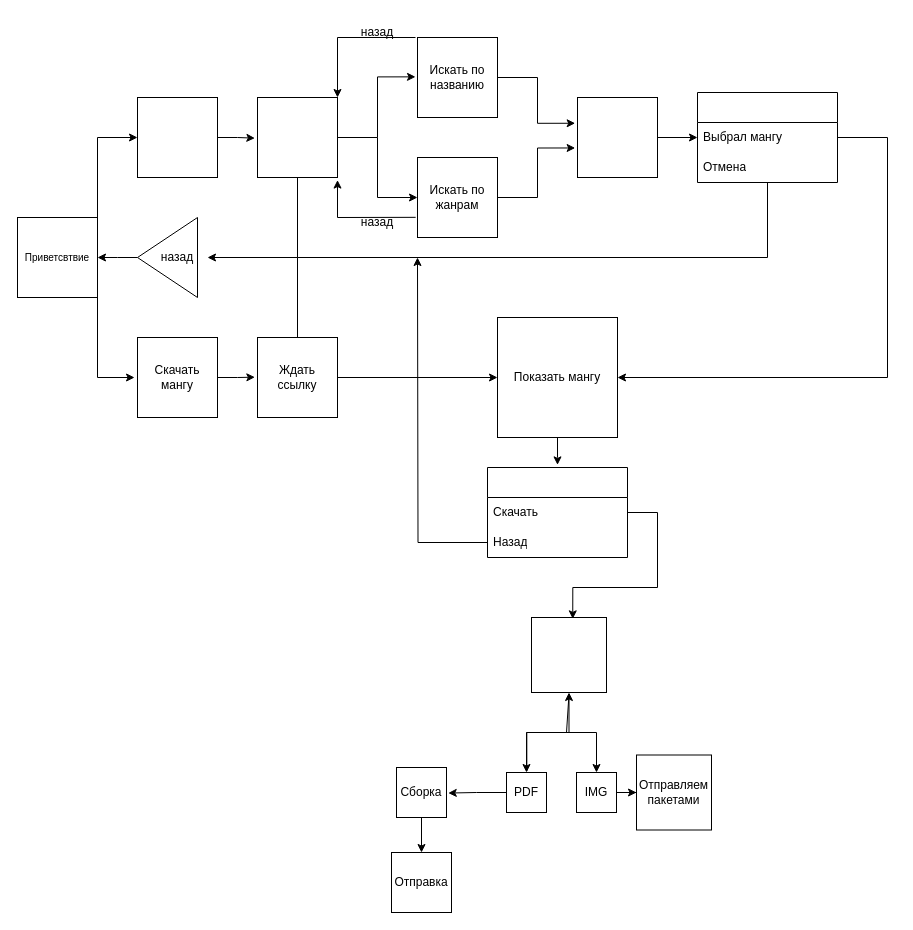
Image size: 913x930. Some labels were removed from this diagram. The box of each missing label's shape, as (x1, y1, x2, y2) in pixels:
Выбор: (696, 92, 838, 182)
Выбрать сайт: (256, 96, 338, 178)
Выбрать формат: (530, 616, 606, 692)
Действие: (486, 466, 628, 558)
Найти мангу: (136, 96, 218, 178)
Пагинация: (576, 96, 658, 178)
